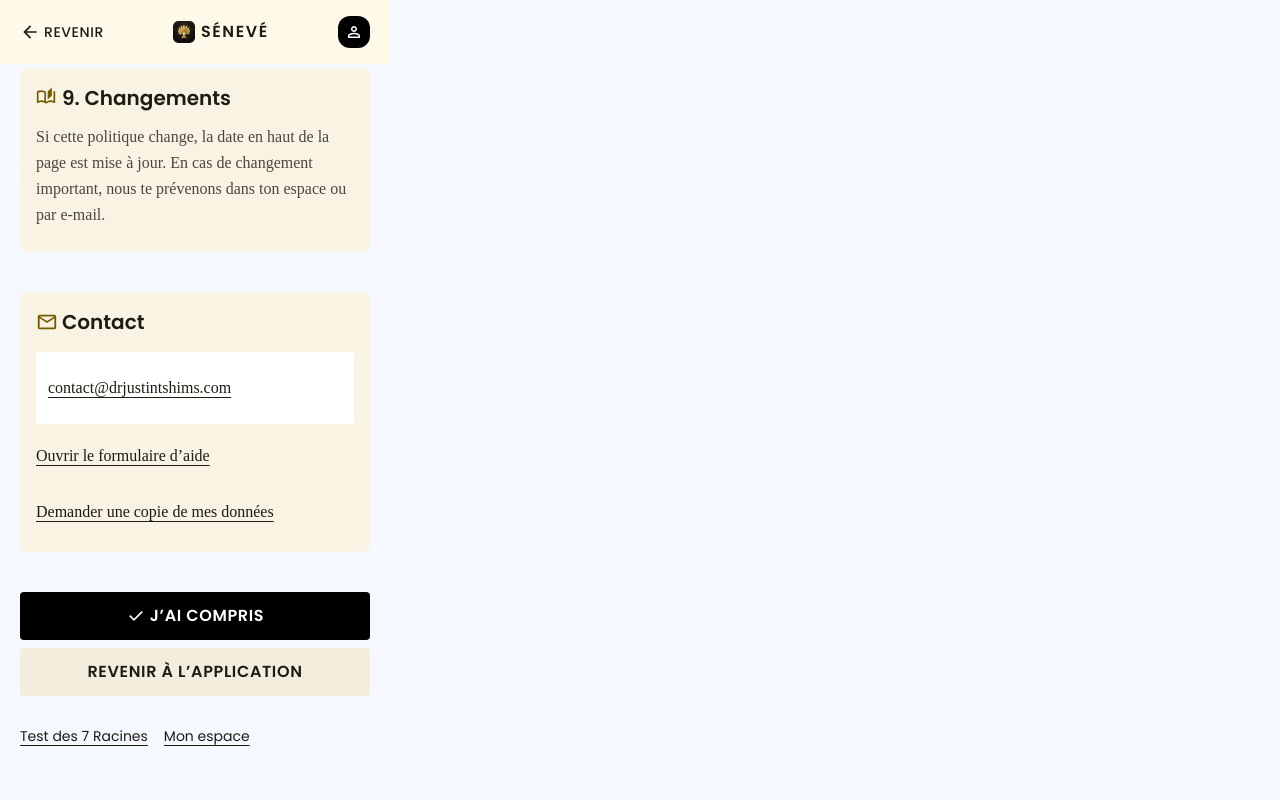
Scenario: « J’ai compris » retourne à l’application sans enregistrer un accord
(page scrolled)
Click the button "J’ai compris".
click(195, 616)  # box [20,592,370,640]
(page scrolled)
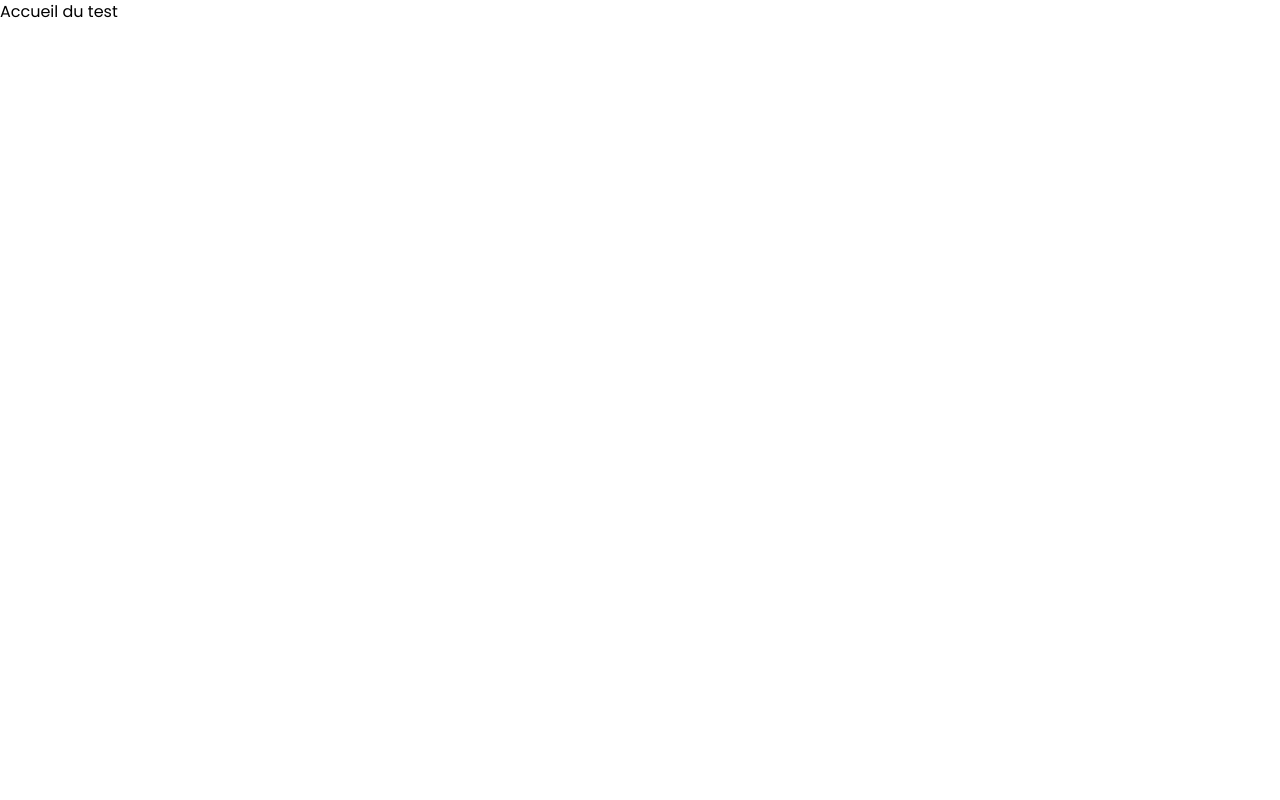
expect the heading "Accueil du test" is shown: met, box [0,0,118,23]
